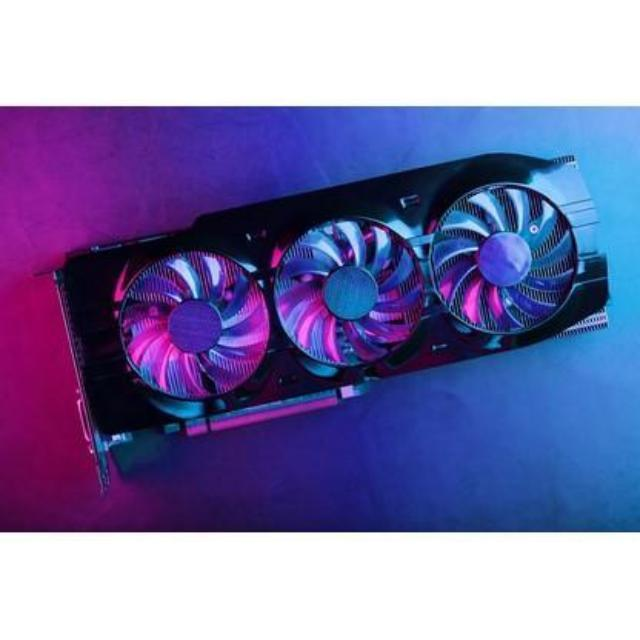GPU: (50, 156, 610, 458)
